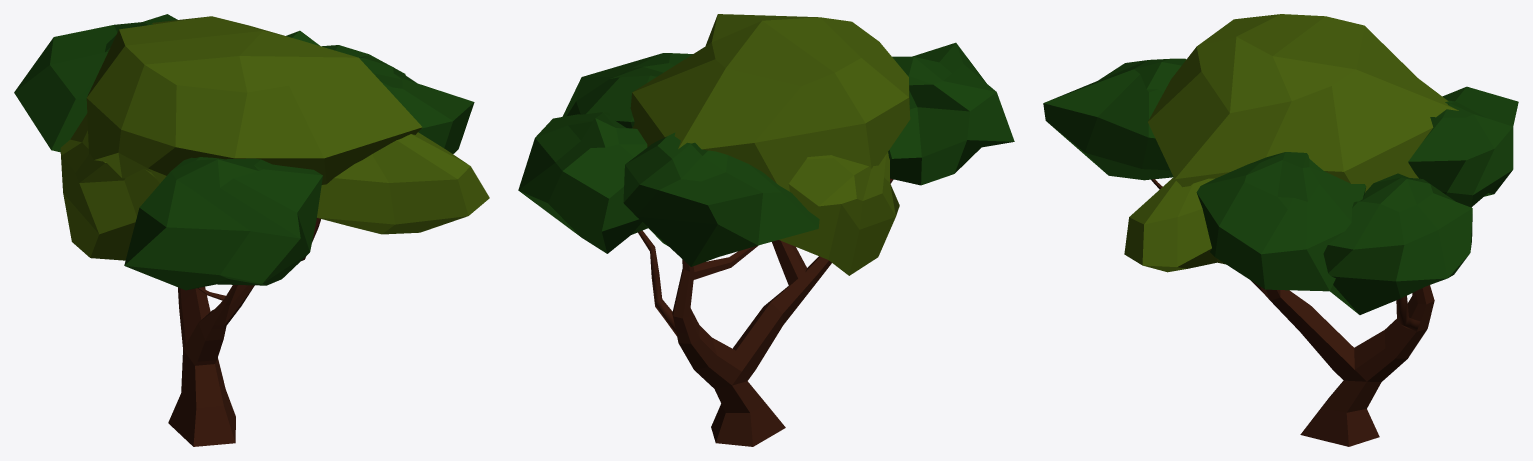
Rendered from Tree_2.FBX.
The picture shows the model from 3 angles, left to right: view 1: azimuth 30°, elevation 25°; view 2: azimuth 150°, elevation 25°; view 3: azimuth 270°, elevation 25°; orthographic projection. The views are drawn at different scales.
Visible parts, largest first — view 1: Tree_2; view 2: Tree_2; view 3: Tree_2.
Boxes of the visible parts, <box> form: Tree_2: <box>14,14,489,446</box>; Tree_2: <box>518,14,1014,446</box>; Tree_2: <box>1043,14,1518,446</box>.
Bounding box in the file's own units: 222 × 216 × 242.
